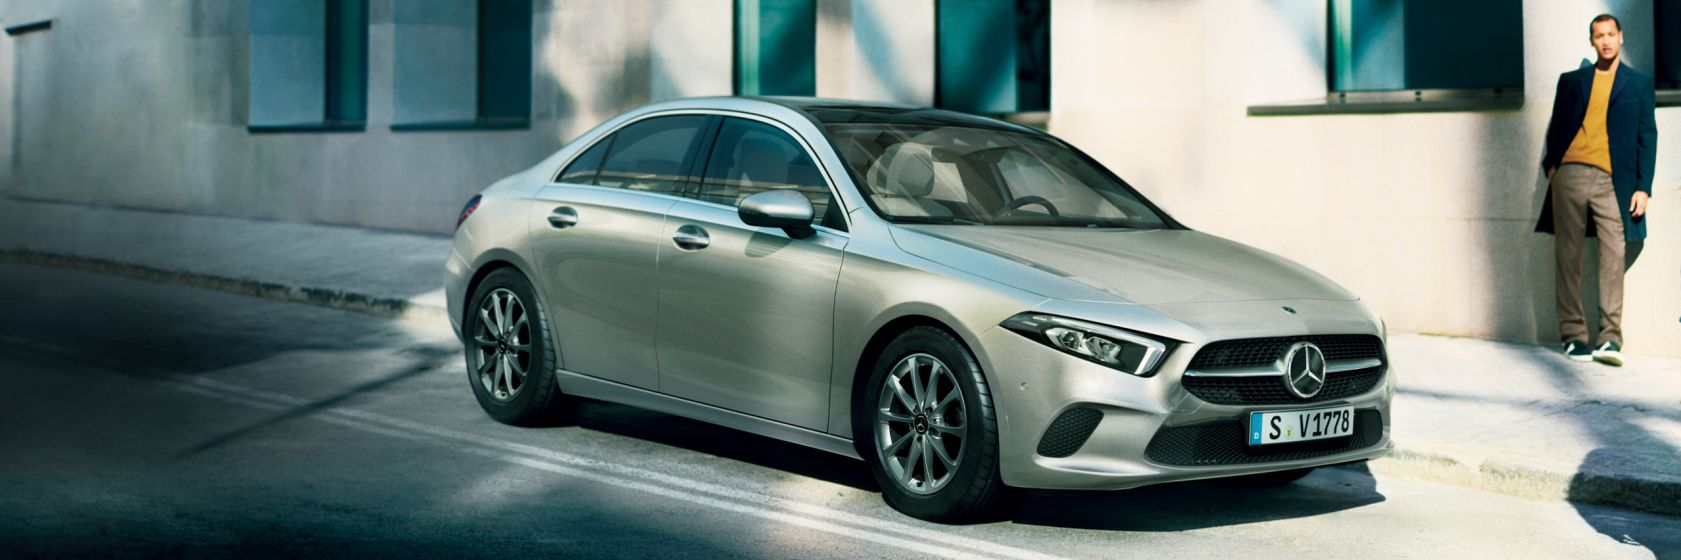car: (442, 94, 1390, 521)
